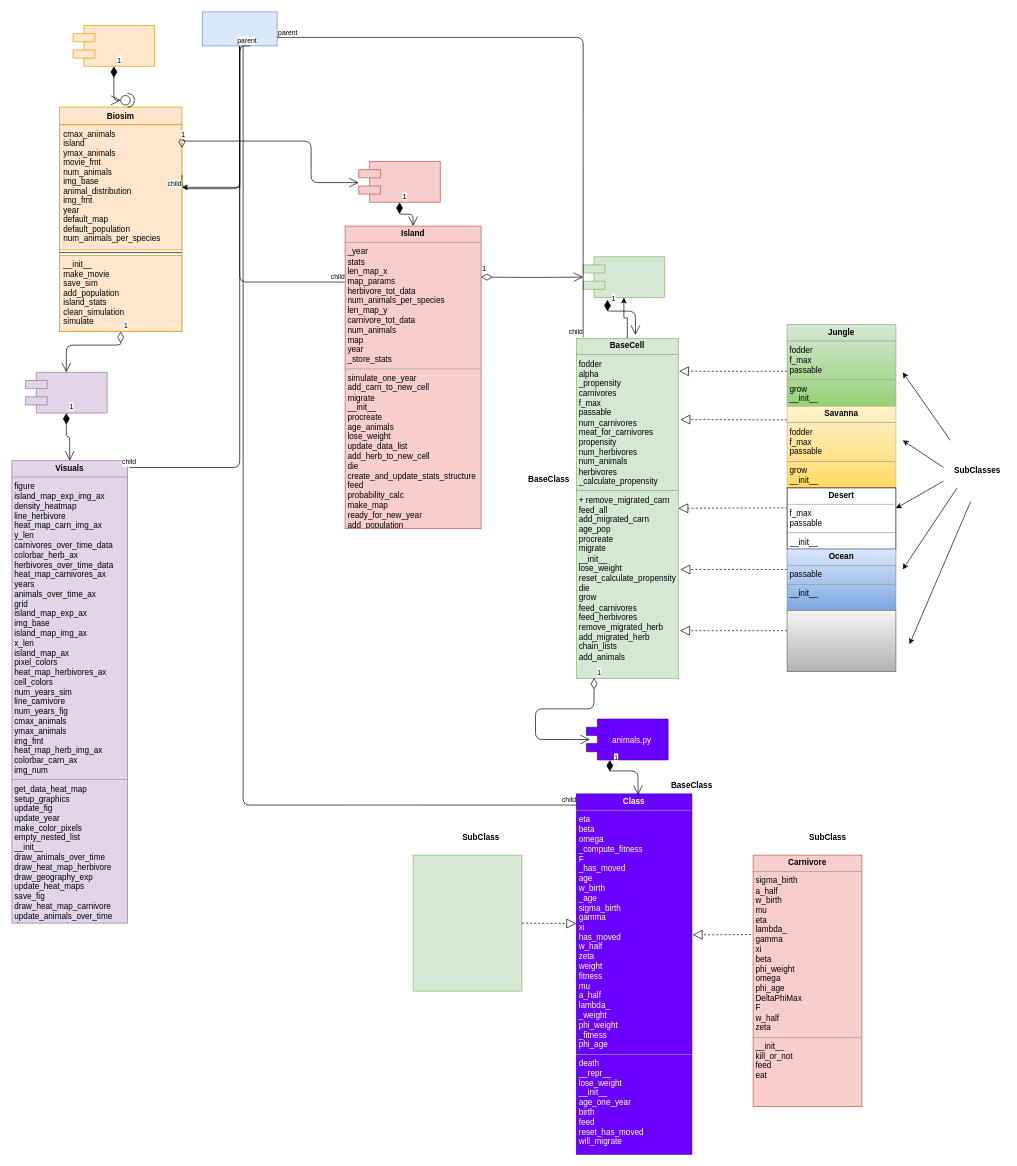
Image size: 1017x1166. Some labels were removed from this diagram. Each missing label, with the centre of its shape:
Herbivore sigma_birth a_half w_birth mu eta lambda_ gamma xi beta __init__: point 467,922
island.py: point 399,181
landscape.py: point 623,277
Mountain passable __init__: point 841,641
Object: point 239,28
simulation.py: point 113,45
visualization.py: point 66,392
